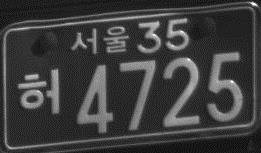2: (160, 56, 203, 129)
3: (137, 18, 162, 54)
4: (75, 61, 115, 132)
5: (206, 51, 245, 122), (165, 17, 189, 51)
7: (118, 59, 157, 131)
서울_O: (69, 25, 131, 56)
허: (17, 68, 62, 116)
